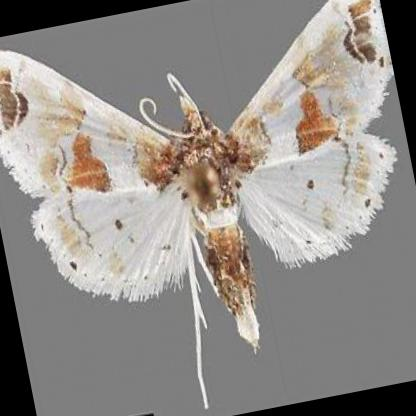leucinodes: (0, 0, 397, 346)
